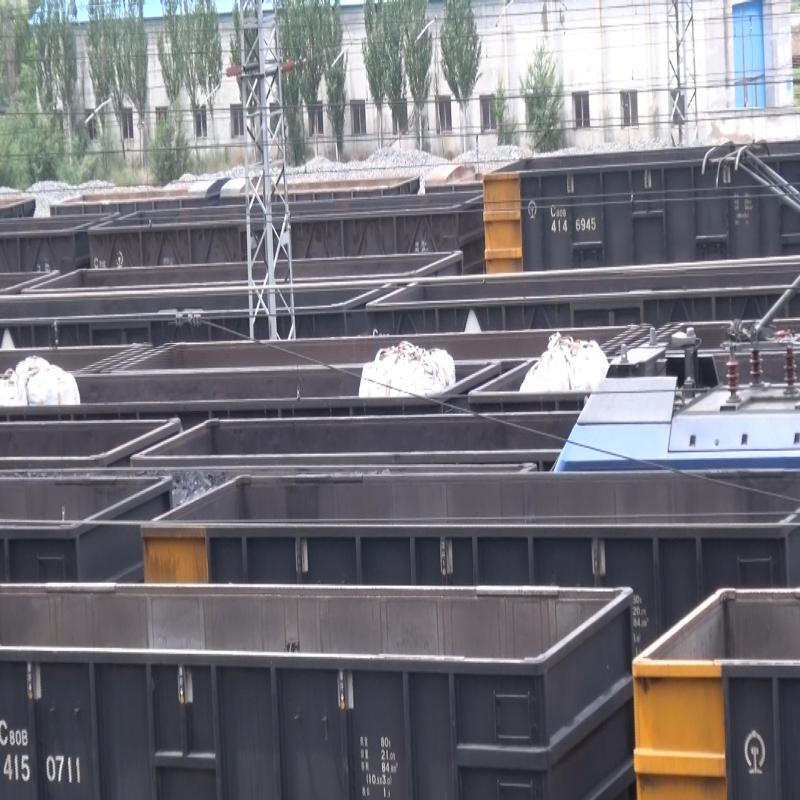train: (76, 588, 598, 800), (486, 160, 800, 267)
